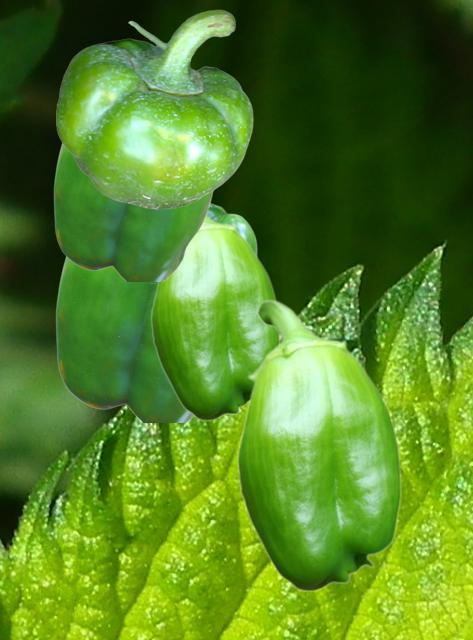bell_pepper: (236, 299, 401, 591), (55, 203, 256, 421), (56, 9, 252, 208), (150, 215, 279, 420), (53, 143, 213, 280)
